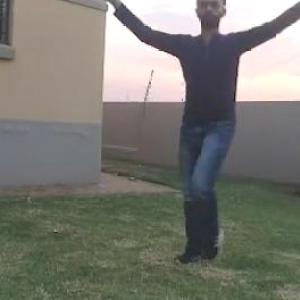takeoff: (96, 0, 299, 267)
